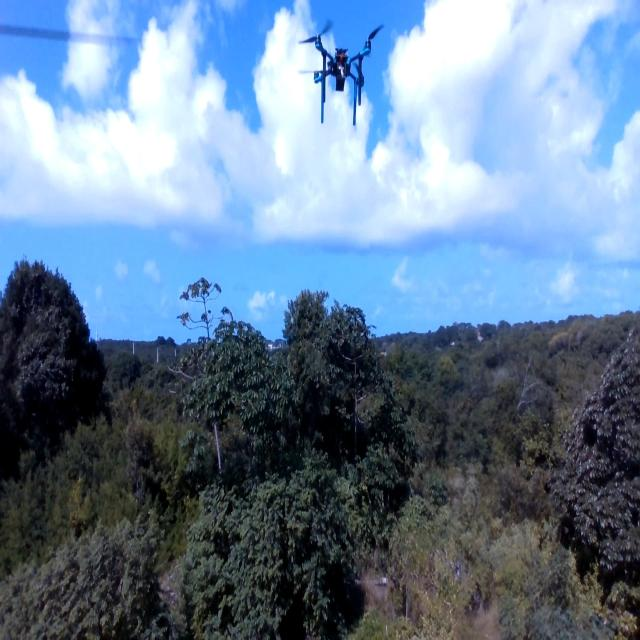-uav-: (293, 12, 390, 142)
